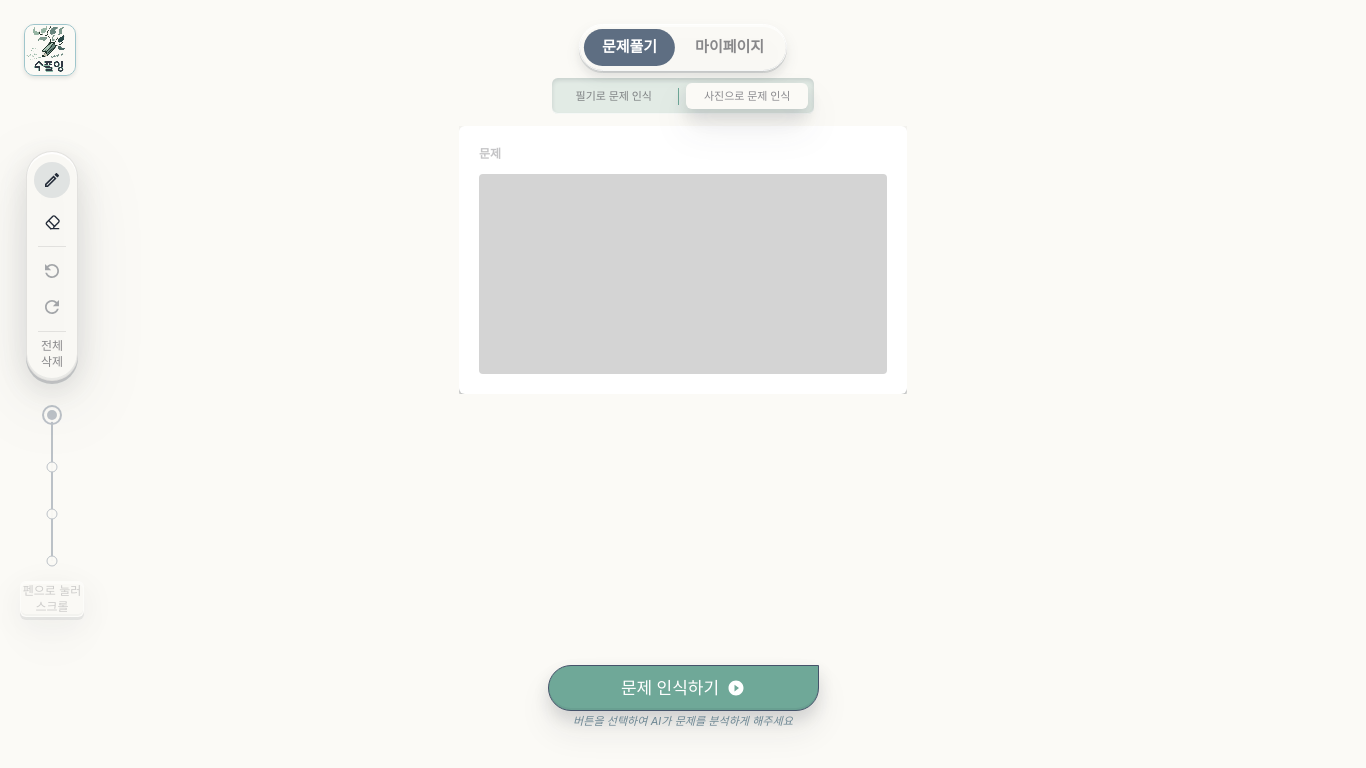
SolvePencilcanvasPage — RecognizedProblemPopup '인식취소' 배선(오너 UX 결정) › 인식이 비정상(빈 텍스트)인 상태에서 '인식취소'를 누르면 팝업 자체가 화면에서 사라진다(실기기 회귀 재현)
What coordinates should you click on to do the following:
click the button "문제 인식하기"
I would click on:
 (683, 688)
Its box is [548,665,818,711].
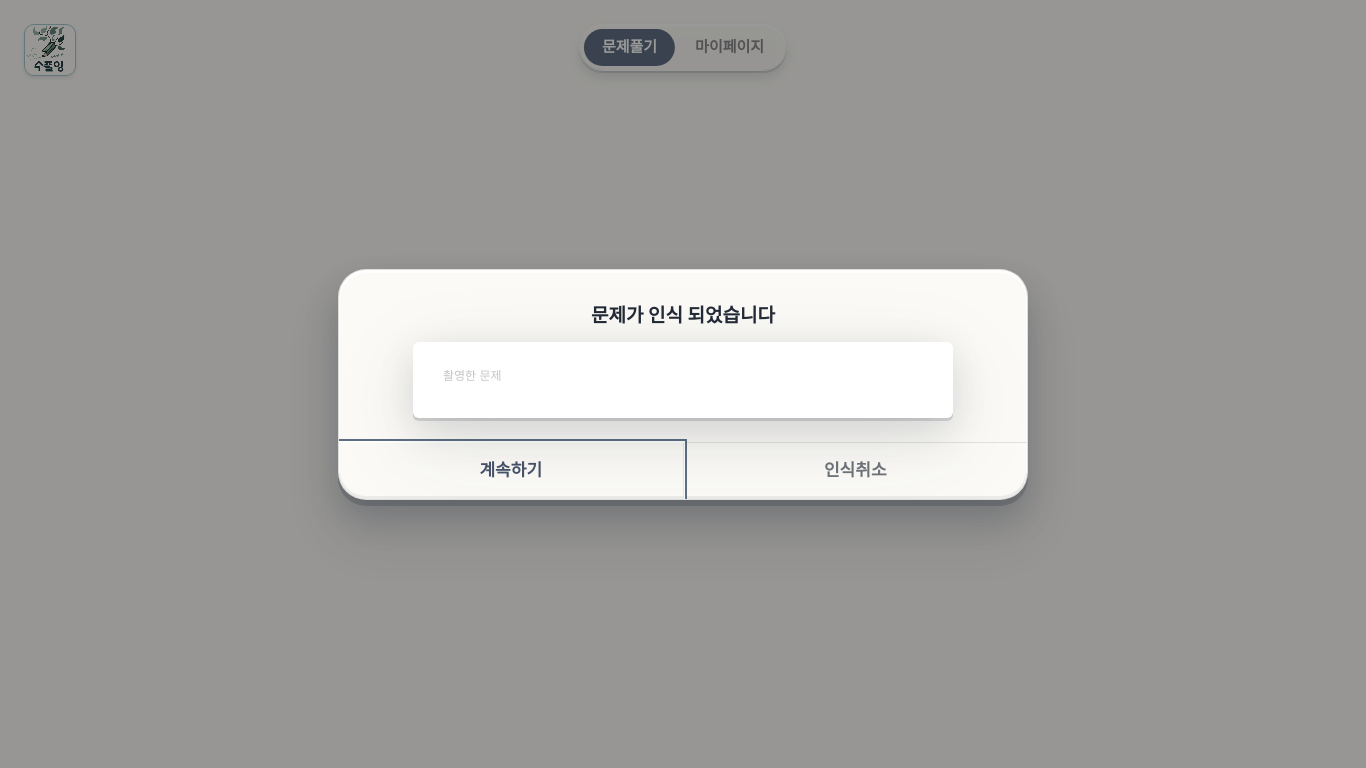
Now the heading "문제가 인식 되었습니다" is shown, box [591,302,775,330]
What coordinates should you click on to do the following:
click the button "인식취소"
I would click on:
 (855, 471)
Its box is [684,443,1027,498].
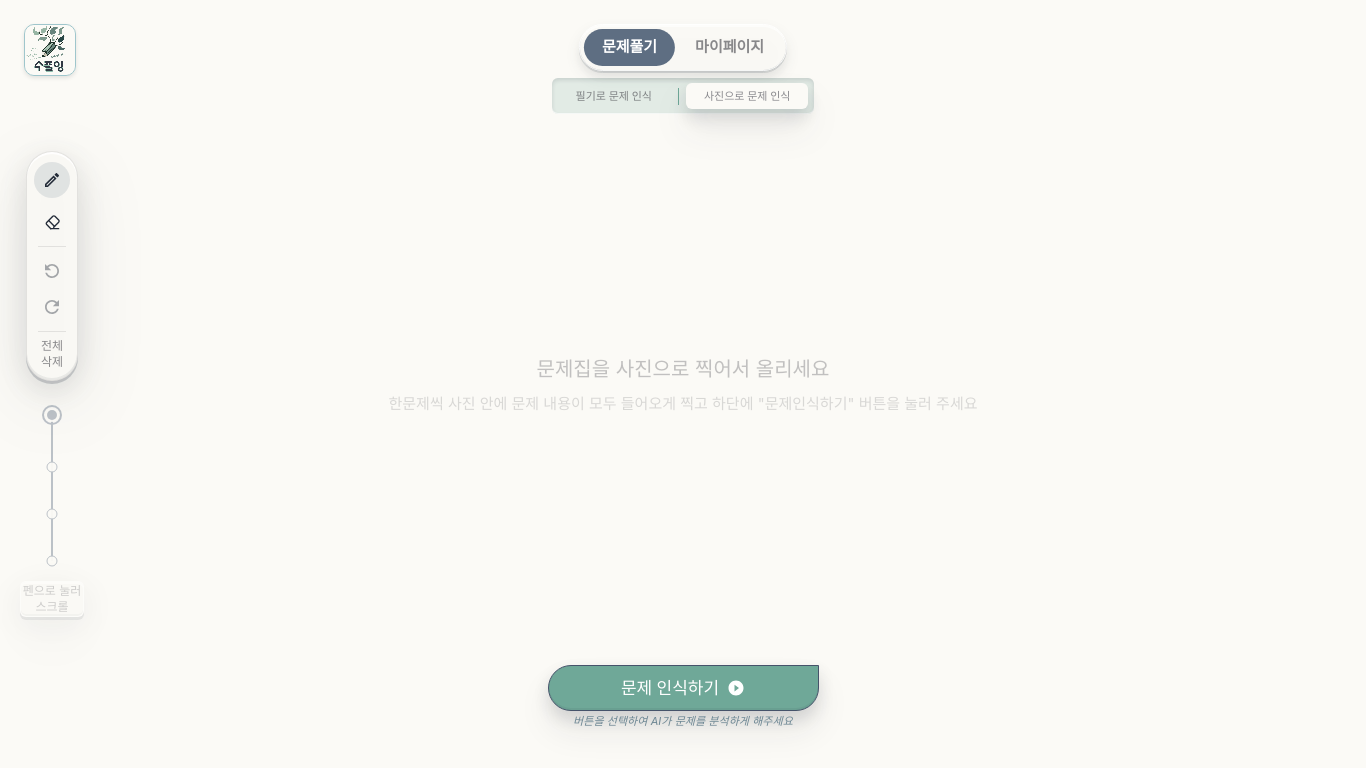
Now the heading "문제가 인식 되었습니다" is gone
Now the button "인식취소" is gone
Now the button "계속하기" is gone
